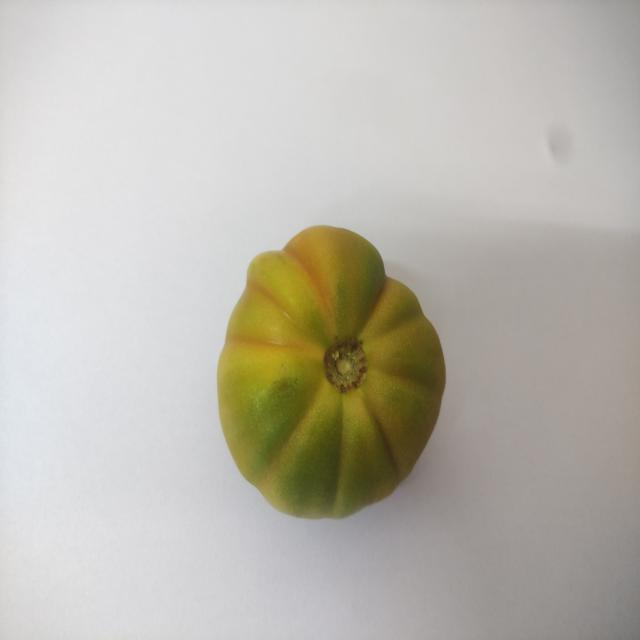yesil: (202, 203, 465, 531)
